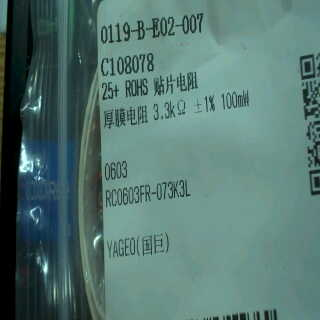3.3kO: (149, 100, 189, 123)
